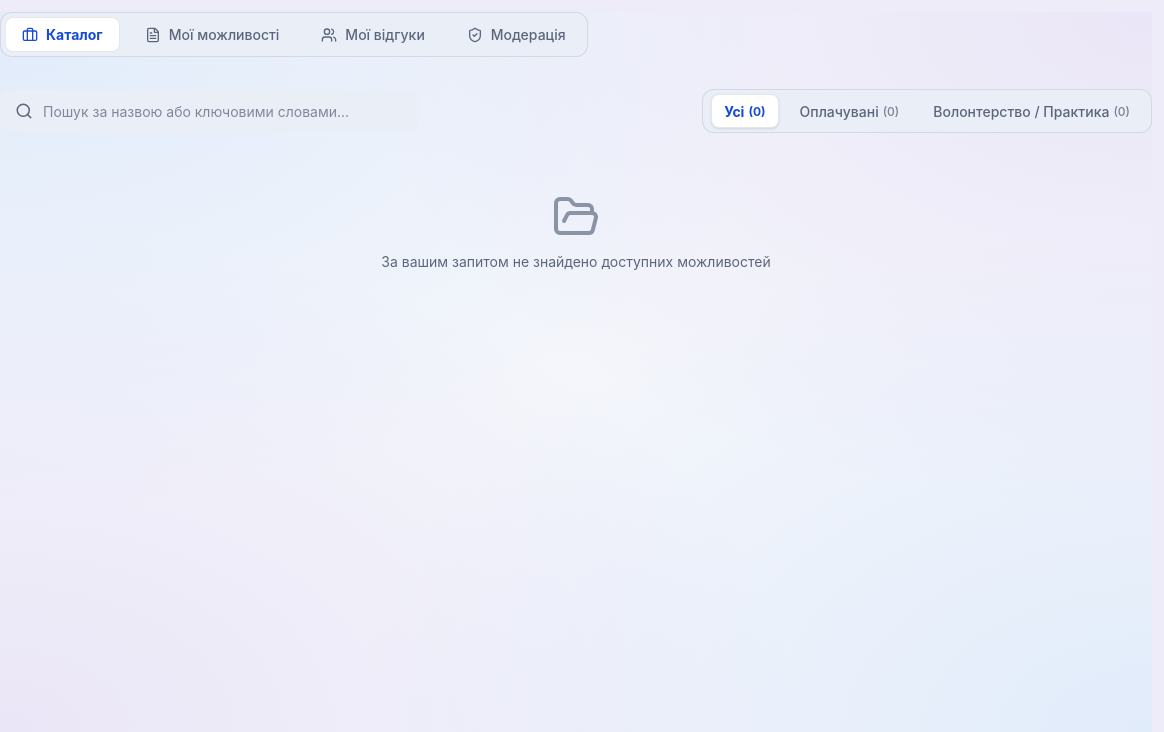
Test: OpportunitiesTab component › should render Create Opportunity button only on My Opportunities tab when logged in as moderator
This screenshot has width=1164, height=732.
Check: the button "створити можливість" is not shown
Click the tab "Мої можливості" at x=212, y=34, box [128,17,296,52]
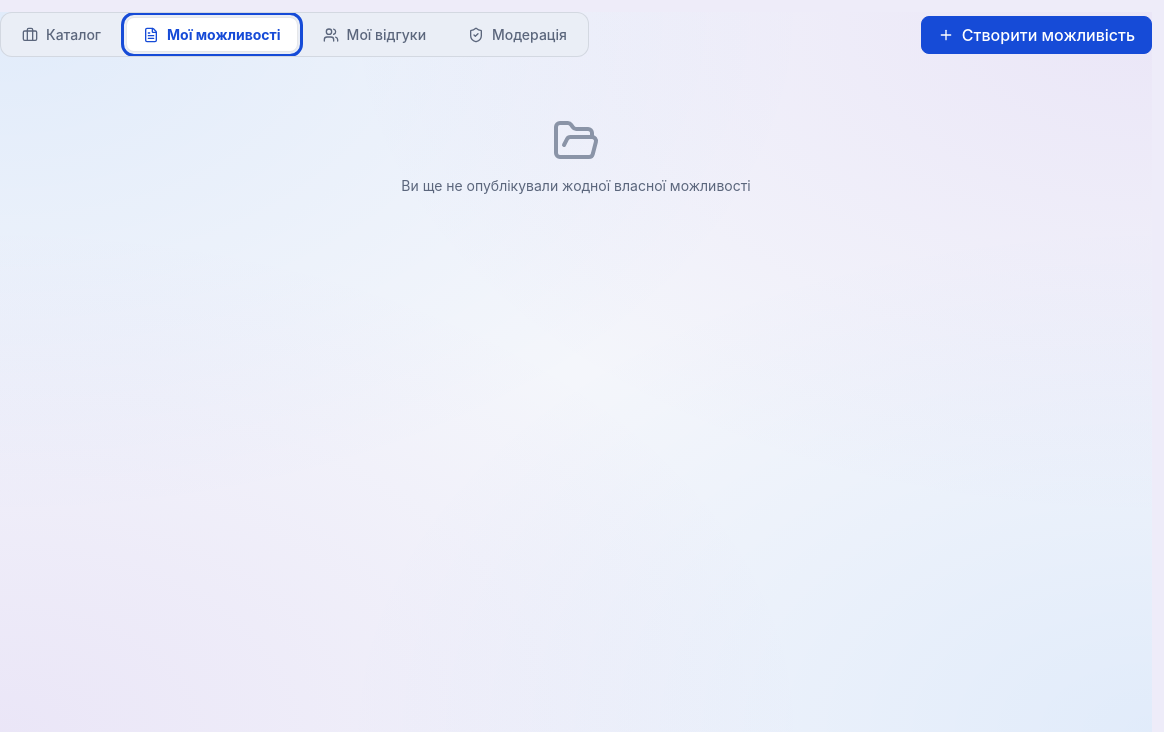
Check: the button "Створити можливість" is shown, box [921,16,1152,54]
Click the tab "Модерація" at x=518, y=34, box [451,17,584,52]
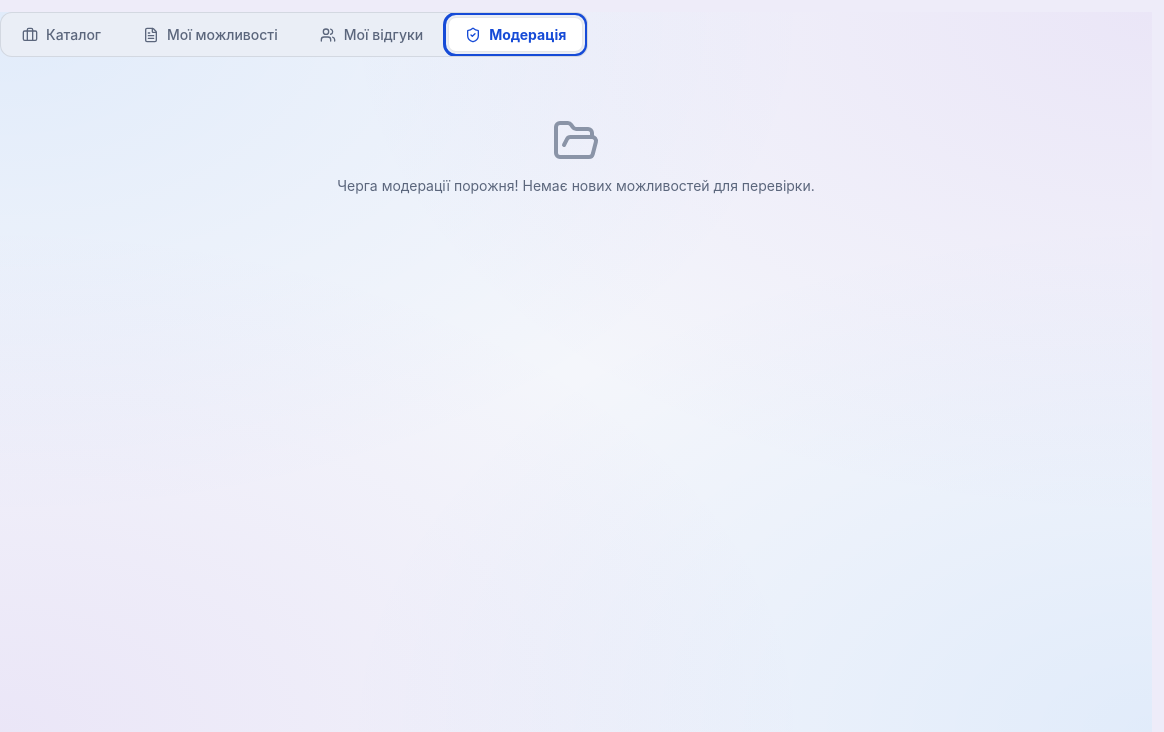
Check: the button "Створити можливість" is gone
